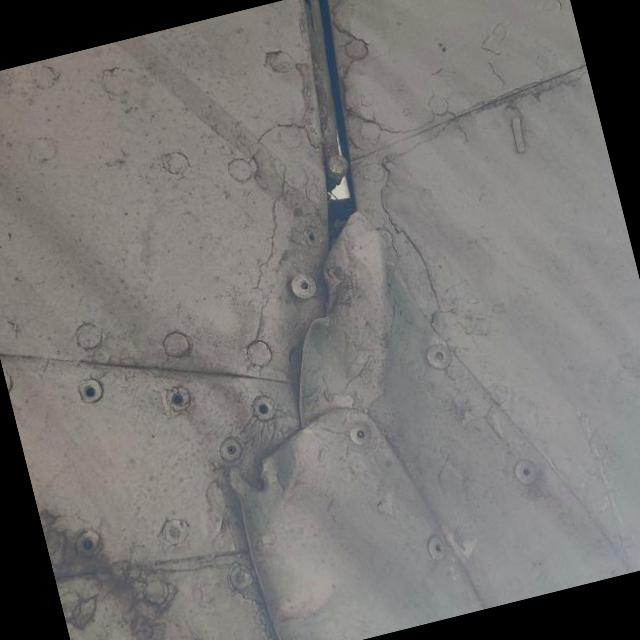crack: (301, 249, 361, 326)
